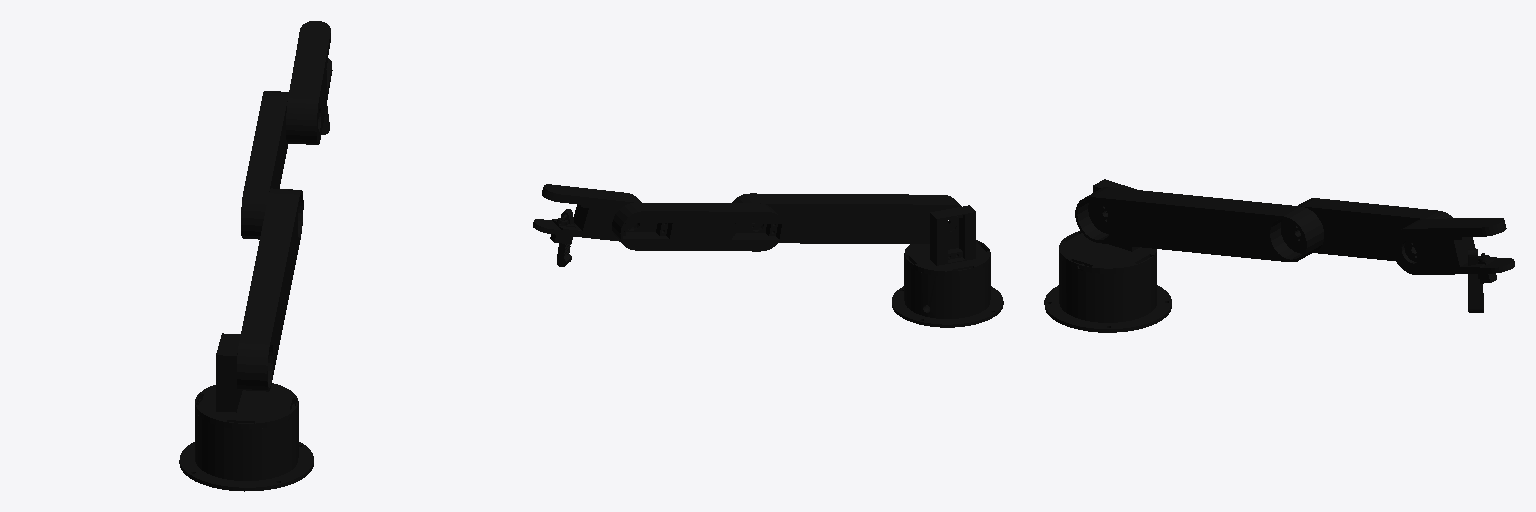
URDF robot description (urdf_remade):
<?xml version="1.0" encoding="utf-8"?>
<!-- This URDF was automatically created by SolidWorks to URDF Exporter! Originally created by [author] ([email redacted]) 
     Commit Version: 1.6.0-1-g15f4949  Build Version: 1.6.7594.29634
     For more information, please see http://wiki.ros.org/sw_urdf_exporter -->
<robot
  name="urdf_remade">
  
  <link name="world" />

  <joint name="fixed_base" type="fixed">
        <parent link="world" />
        <child link="base_link" />
    </joint>

  <link
    name="base_link">
    <inertial>
      <origin
        xyz="-0.00036123 -0.00042605 0.022628"
        rpy="0 0 0" />
      <mass
        value="0.18873" />
      <inertia
        ixx="0.00025902"
        ixy="0.00017171"
        ixz="-0.00013068"
        iyy="0.00025783"
        iyz="0.00087758"
        izz="0.00039006" />
    </inertial>
    <visual>
      <origin
        xyz="0 0 0"
        rpy="0 0 0" />
      <geometry>
        <mesh
          filename="package://manipulator_description/meshes/base_link.STL" />
      </geometry>
      <material
        name="">
        <color
          rgba="0.098039 0.098039 0.098039 1" />
      </material>
    </visual>
    <collision>
      <origin
        xyz="0 0 0"
        rpy="0 0 0" />
      <geometry>
        <mesh
          filename="package://manipulator_description/meshes/base_link.STL" />
      </geometry>
    </collision>
  </link>
  <link
    name="mancal_link">
    <inertial>
      <origin
        xyz="0.0082382 -0.0063516 0.012328"
        rpy="0 0 0" />
      <mass
        value="0.0822" />
      <inertia
        ixx="0.00071159"
        ixy="-0.00024189"
        ixz="-0.00087636"
        iyy="0.00069887"
        iyz="0.00067566"
        izz="0.00070545" />
    </inertial>
    <visual>
      <origin
        xyz="0 0 0"
        rpy="0 0 0" />
      <geometry>
        <mesh
          filename="package://manipulator_description/meshes/mancal_link.STL" />
      </geometry>
      <material
        name="">
        <color
          rgba="0.098039 0.098039 0.098039 1" />
      </material>
    </visual>
    <collision>
      <origin
        xyz="0 0 0"
        rpy="0 0 0" />
      <geometry>
        <mesh
          filename="package://manipulator_description/meshes/mancal_link.STL" />
      </geometry>
    </collision>
  </link>
  <joint
    name="joint_base_mancal"
    type="revolute">
    <origin
      xyz="0.0017893 -0.0022034 0.065"
      rpy="0 0 -3.1273" />
    <parent
      link="base_link" />
    <child
      link="mancal_link" />
    <axis
      xyz="0 0 -1" />
    <limit
      lower="0"
      upper="3.14"
      effort="200"
      velocity="2" />
  </joint>
  <link
    name="link_1">
    <inertial>
      <origin
        xyz="-0.12225 0.002316 0.023263"
        rpy="0 0 0" />
      <mass
        value="0.37066" />
      <inertia
        ixx="0.00017655"
        ixy="0.00014663"
        ixz="0.00036049"
        iyy="0.0021231"
        iyz="-0.00027903"
        izz="0.0020023" />
    </inertial>
    <visual>
      <origin
        xyz="0 0 0"
        rpy="0 0 0" />
      <geometry>
        <mesh
          filename="package://manipulator_description/meshes/link_1.STL" />
      </geometry>
      <material
        name="">
        <color
          rgba="0.098039 0.098039 0.098039 1" />
      </material>
    </visual>
    <collision>
      <origin
        xyz="0 0 0"
        rpy="0 0 0" />
      <geometry>
        <mesh
          filename="package://manipulator_description/meshes/link_1.STL" />
      </geometry>
    </collision>
  </link>
  <joint
    name="joint_mancal_link1"
    type="revolute">
    <origin
      xyz="-0.0018347 0.0014146 0.0398"
      rpy="0 0 0.914" />
    <parent
      link="mancal_link" />
    <child
      link="link_1" />
    <axis
      xyz="0 1 0" />
    <limit
      lower="-0.08"
      upper="2.8"
      effort="200"
      velocity="2" />
  </joint>
  <link
    name="link_2">
    <inertial>
      <origin
        xyz="-0.078673 -0.023987 0.014926"
        rpy="0 0 0" />
      <mass
        value="0.20121" />
      <inertia
        ixx="7.6875E-05"
        ixy="-0.00018666"
        ixz="0.00097421"
        iyy="0.00062739"
        iyz="0.00035413"
        izz="0.0005719" />
    </inertial>
    <visual>
      <origin
        xyz="0 0 0"
        rpy="0 0 0" />
      <geometry>
        <mesh
          filename="package://manipulator_description/meshes/link_2.STL" />
      </geometry>
      <material
        name="">
        <color
          rgba="0.098039 0.098039 0.098039 1" />
      </material>
    </visual>
    <collision>
      <origin
        xyz="0 0 0"
        rpy="0 0 0" />
      <geometry>
        <mesh
          filename="package://manipulator_description/meshes/link_2.STL" />
      </geometry>
    </collision>
  </link>
  <joint
    name="joint_link1_link2"
    type="revolute">
    <origin
      xyz="-0.24449 0 0.046524"
      rpy="0 0 0" />
    <parent
      link="link_1" />
    <child
      link="link_2" />
    <axis
      xyz="0 1 0" />
    <limit
      lower="-1.39"
      upper="1.39"
      effort="200"
      velocity="2" />
  </joint>
  <link
    name="link_3">
    <inertial>
      <origin
        xyz="-0.043002 -0.0092993 0.012483"
        rpy="0 0 0" />
      <mass
        value="0.1114" />
      <inertia
        ixx="4.6736E-05"
        ixy="-0.00031676"
        ixz="0.00024917"
        iyy="0.00013144"
        iyz="0.00010543"
        izz="0.00010147" />
    </inertial>
    <visual>
      <origin
        xyz="0 0 0"
        rpy="0 0 0" />
      <geometry>
        <mesh
          filename="package://manipulator_description/meshes/link_3.STL" />
      </geometry>
      <material
        name="">
        <color
          rgba="0.098039 0.098039 0.098039 1" />
      </material>
    </visual>
    <collision>
      <origin
        xyz="0 0 0"
        rpy="0 0 0" />
      <geometry>
        <mesh
          filename="package://manipulator_description/meshes/link_3.STL" />
      </geometry>
    </collision>
  </link>
  <joint
    name="joint_link2_link3"
    type="revolute">
    <origin
      xyz="-0.15734 0.013 0.02985"
      rpy="0 0 0" />
    <parent
      link="link_2" />
    <child
      link="link_3" />
    <axis
      xyz="0 -1 0" />
    <limit
      lower="-1.57"
      upper="1.57"
      effort="200"
      velocity="2" />
  </joint>
  <link
    name="gripper">
    <inertial>
      <origin
        xyz="-0.020033 0.0039871 0.010471"
        rpy="0 0 0" />
      <mass
        value="0.014246" />
      <inertia
        ixx="0.00045598"
        ixy="0.00068889"
        ixz="0.00035533"
        iyy="0.00088054"
        iyz="-0.00094032"
        izz="0.00050149" />
    </inertial>
    <visual>
      <origin
        xyz="0 0 0"
        rpy="0 0 0" />
      <geometry>
        <mesh
          filename="package://manipulator_description/meshes/gripper.STL" />
      </geometry>
      <material
        name="">
        <color
          rgba="0.098039 0.098039 0.098039 1" />
      </material>
    </visual>
    <collision>
      <origin
        xyz="0 0 0"
        rpy="0 0 0" />
      <geometry>
        <mesh
          filename="package://manipulator_description/meshes/gripper.STL" />
      </geometry>
    </collision>
  </link>
  <joint
    name="joint_link3_gripper"
    type="revolute">
    <origin
      xyz="-0.079874 -0.010002 0.014725"
      rpy="1.5708 0 -0.914" />
    <parent
      link="link_3" />
    <child
      link="gripper" />
    <axis
      xyz="0.17293 0.95905 -0.2243" />
    <limit
      lower="-0.35"
      upper="0.35"
      effort="200"
      velocity="2" />
  </joint>
</robot>

--- Render facts (derived) ---
The picture shows the robot from 3 angles, left to right: view 1: azimuth 30°, elevation 25°; view 2: azimuth 150°, elevation 25°; view 3: azimuth 270°, elevation 25°; orthographic projection.
Model urdf_remade with 7 links and 6 joints (5 revolute, 1 fixed), rooted at world, posed all joints at 0.
Links seen in each view (by area): view 1: link_1, base_link, mancal_link, link_3, link_2; view 2: link_1, link_2, base_link, mancal_link, link_3; view 3: link_1, base_link, link_3, link_2, mancal_link, gripper.
Boxes of the visible links, <box> form: link_1: <box>237,188,303,391</box>; base_link: <box>179,399,313,491</box>; mancal_link: <box>195,333,298,429</box>; link_3: <box>286,21,332,144</box>; link_2: <box>241,91,288,239</box>; link_1: <box>732,193,961,243</box>; link_2: <box>612,203,783,251</box>; base_link: <box>892,257,1003,327</box>; mancal_link: <box>904,205,990,275</box>; link_3: <box>533,184,641,243</box>; link_1: <box>1075,187,1323,261</box>; base_link: <box>1044,255,1171,332</box>; link_3: <box>1392,218,1514,283</box>; link_2: <box>1298,198,1452,260</box>; mancal_link: <box>1059,179,1156,273</box>; gripper: <box>1468,249,1483,312</box>.
Bounding box of the posed robot: 0.3887 × 0.4789 × 0.2377 m (x, y, z).
Meshes: 6 distinct files referenced, 6 mesh visuals loaded (6 binary STL).